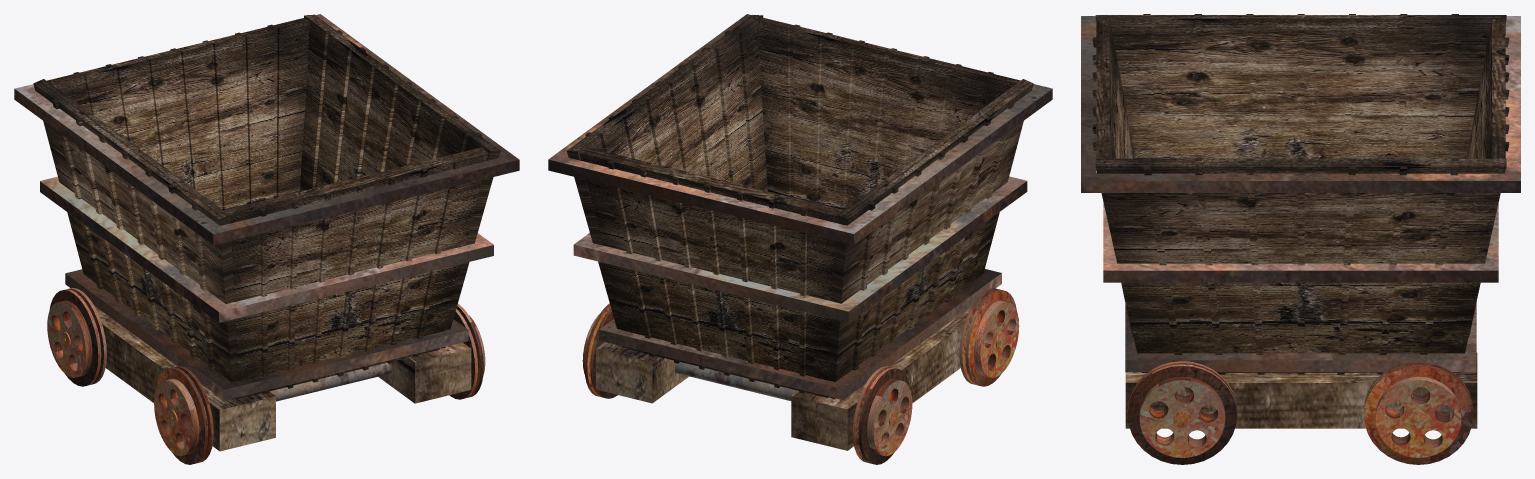
Rendered from minecart.glb.
3 views of the same model, side by side, from view 1: azimuth 30°, elevation 25°; view 2: azimuth 150°, elevation 25°; view 3: azimuth 270°, elevation 25° (orthographic). The views are drawn at different scales.
Parts seen in each view (by area): view 1: Object_2, Object_4, Object_3; view 2: Object_2, Object_4, Object_3; view 3: Object_2, Object_4, Object_3.
Boxes of the visible parts, left/top/right/bottom form: Object_2: left=33, top=14, right=500, bottom=451; Object_4: left=14, top=14, right=519, bottom=401; Object_3: left=47, top=288, right=485, bottom=464; Object_2: left=567, top=15, right=1033, bottom=450; Object_4: left=548, top=14, right=1052, bottom=400; Object_3: left=582, top=288, right=1019, bottom=464; Object_2: left=1092, top=14, right=1509, bottom=428; Object_4: left=1081, top=16, right=1520, bottom=372; Object_3: left=1127, top=361, right=1473, bottom=464.
Bounding box in the file's own units: 3.61 × 3.08 × 4.07.
Materials: 3 (3 with a texture image).
